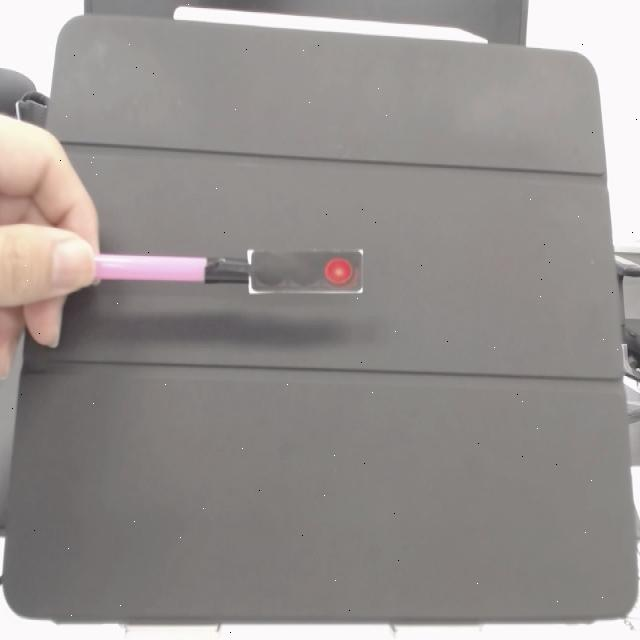traffic light: (248, 251, 366, 299)
